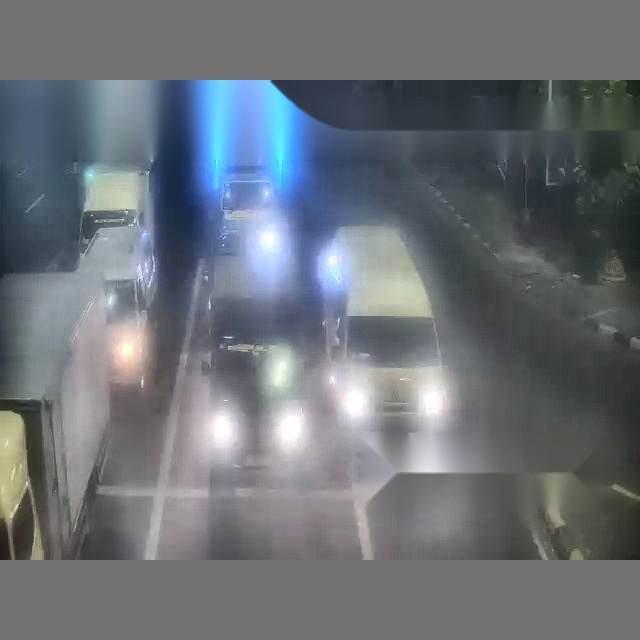Truk: (0, 271, 112, 559)
